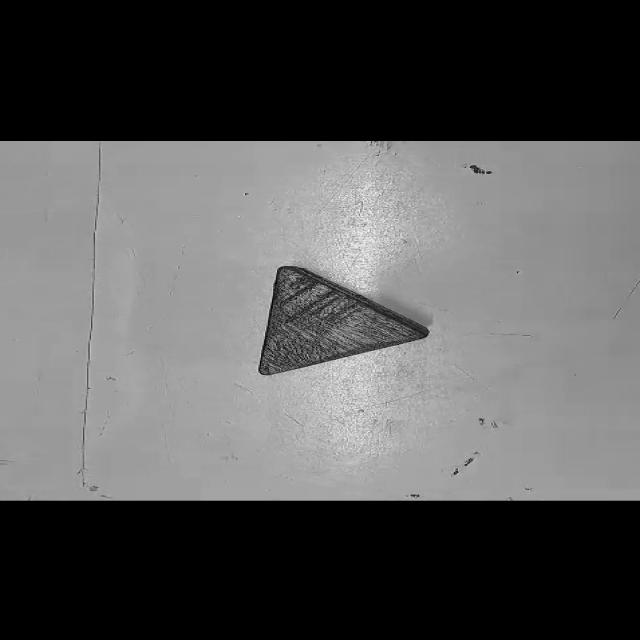rtriangle: (257, 265, 434, 376)
